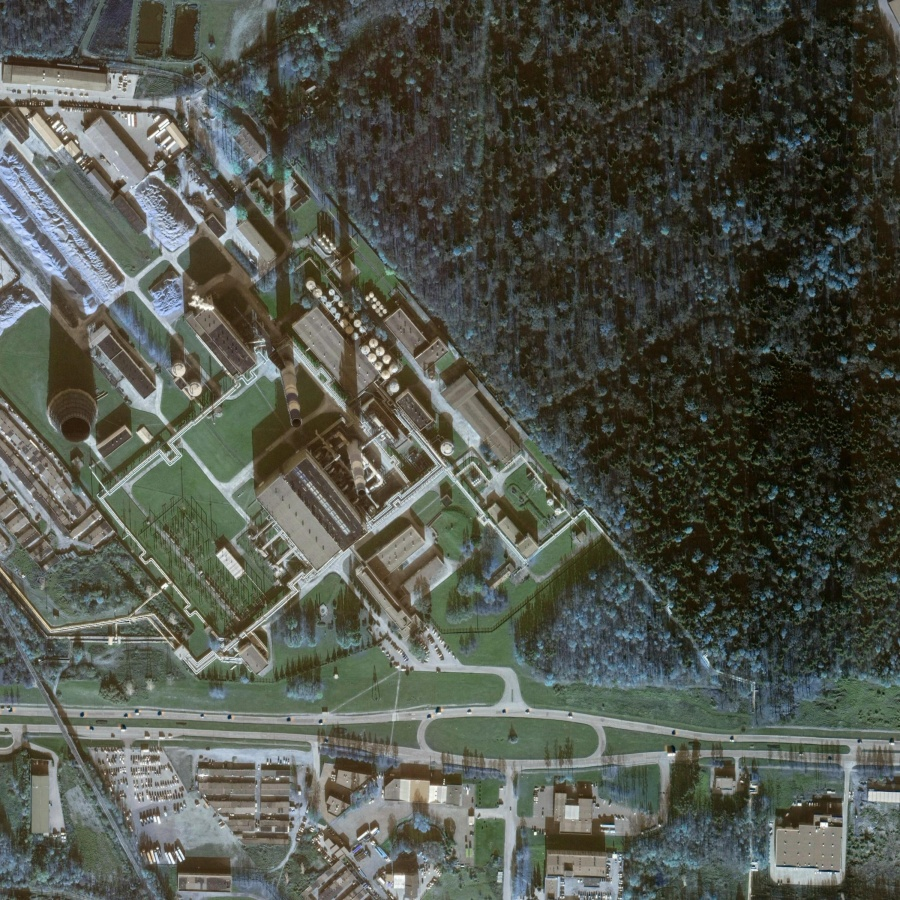PowerPlant: (22, 166, 558, 613)
